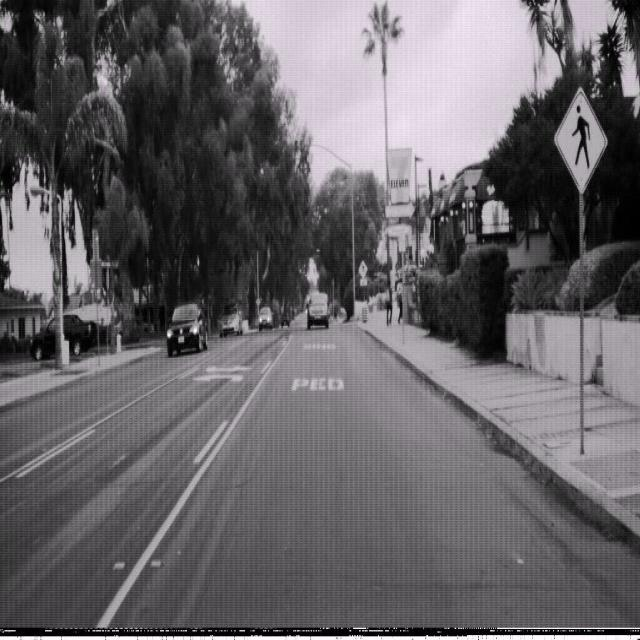pedestrianCrossing: (554, 86, 608, 192)
